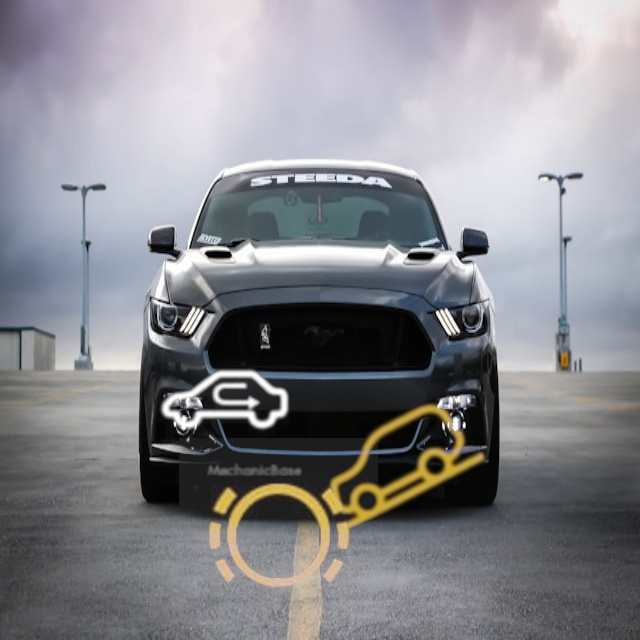symbol: (308, 372, 508, 572), (179, 438, 378, 637), (143, 319, 308, 484)
